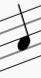note: (14, 2, 31, 67)
